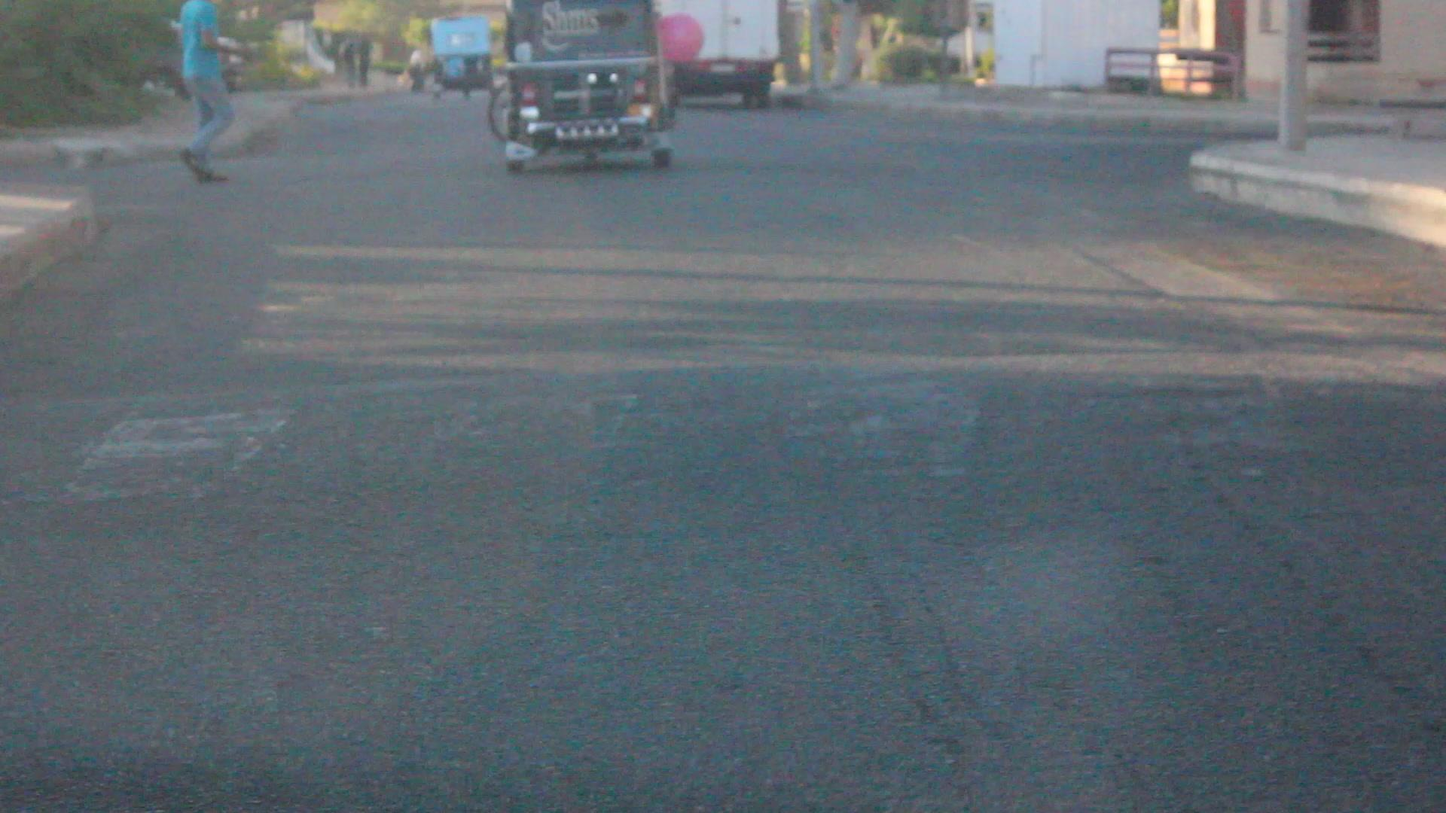Bump: (0, 388, 1444, 499)
